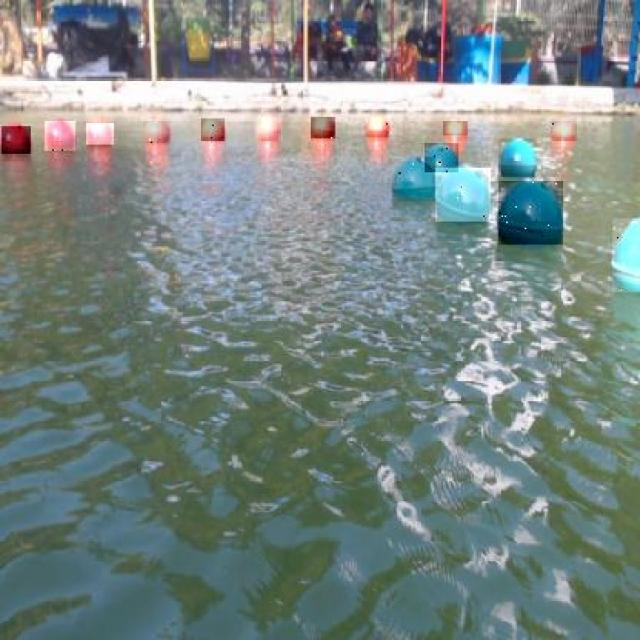green_ball: (498, 180, 561, 242), (436, 168, 486, 222), (613, 219, 640, 290), (390, 157, 438, 196), (498, 140, 538, 179), (424, 143, 457, 171)
red_ball: (46, 119, 74, 149), (2, 123, 29, 153), (88, 117, 113, 146), (364, 116, 393, 138), (254, 116, 283, 138), (200, 117, 226, 140), (146, 119, 170, 142), (311, 116, 334, 138), (445, 116, 468, 136), (551, 122, 576, 140)
